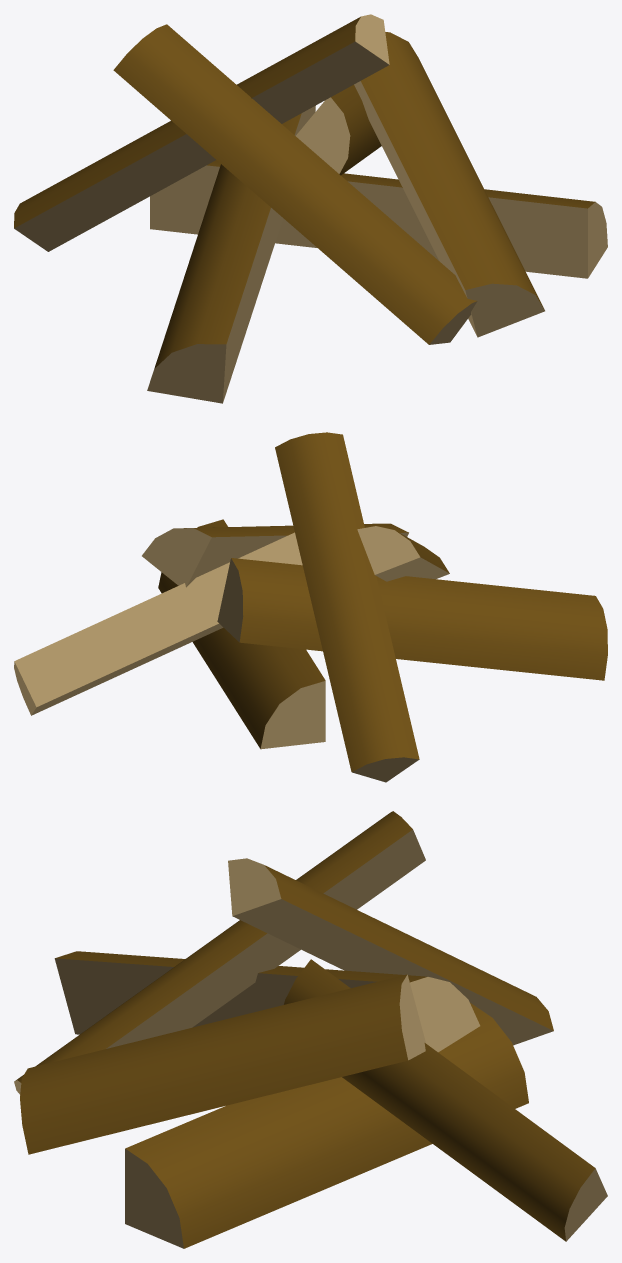
The model's file is firewood.fbx.
3 views of the same model, one above another, from view 1: azimuth 30°, elevation 25°; view 2: azimuth 150°, elevation 25°; view 3: azimuth 270°, elevation 25° (orthographic). The views are drawn at different scales.
Visible parts, largest first — view 1: firewood5, firewood4, firewood6, firewood2, firewood1, firewood3; view 2: firewood2, firewood6, firewood3, firewood1, firewood4, firewood5; view 3: firewood4, firewood1, firewood3, firewood5, firewood6, firewood2.
Part boxes in pixels (box(x1,y1,x2,y2)): firewood5: box(113, 24, 477, 344); firewood4: box(354, 32, 544, 337); firewood6: box(14, 14, 389, 251); firewood2: box(147, 105, 315, 403); firewood1: box(150, 160, 607, 278); firewood3: box(296, 84, 381, 175); firewood2: box(217, 558, 607, 680); firewood6: box(275, 432, 419, 782); firewood3: box(14, 532, 302, 715); firewood1: box(158, 519, 325, 749); firewood4: box(142, 523, 408, 587); firewood5: box(357, 526, 449, 581); firewood4: box(20, 974, 425, 1154); firewood1: box(125, 1003, 528, 1248); firewood3: box(284, 959, 607, 1241); firewood5: box(14, 811, 425, 1094); firewood6: box(228, 858, 553, 1045); firewood2: box(54, 951, 480, 1052).
Size of the model in its own units: 8.91 by 4.7 by 8.76.
1 material, 1 textured.
